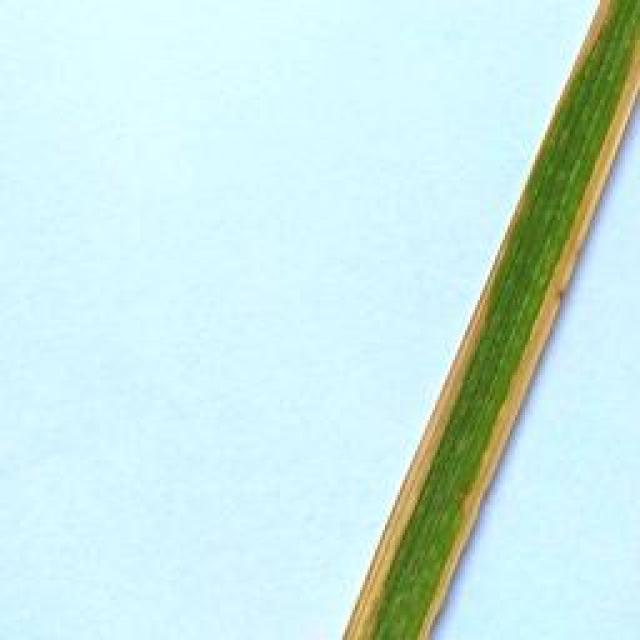Bacterial_Blight: (457, 0, 640, 627)
